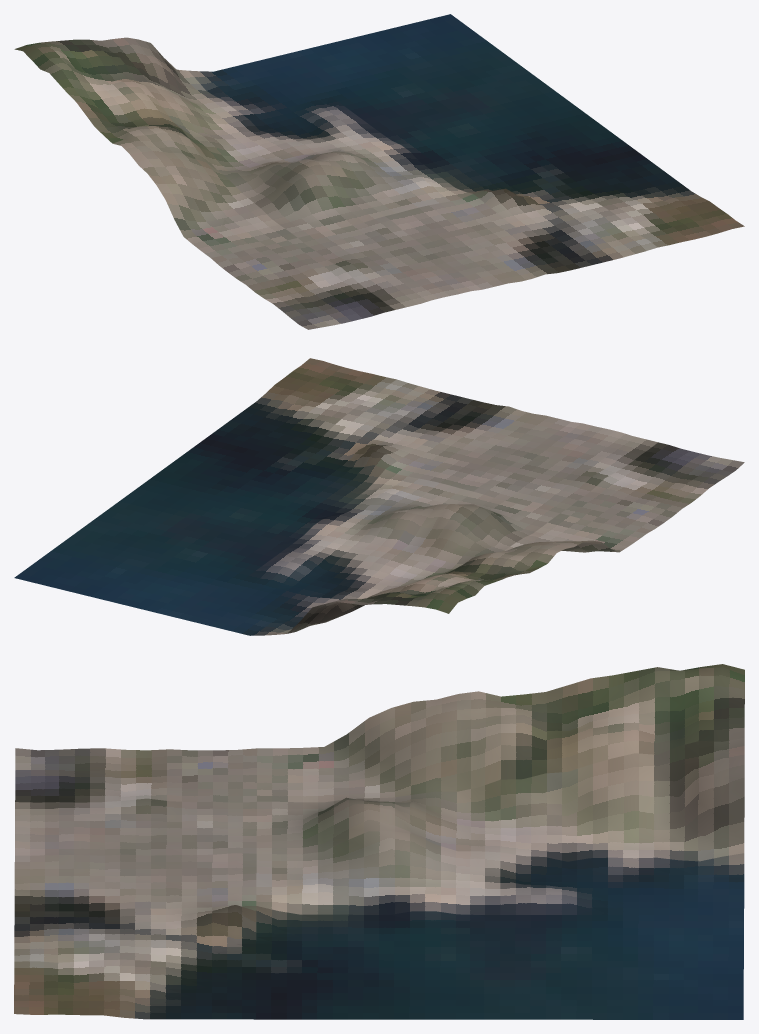
Rendered from tsunami.gltf.
3 views of the same model, one above another, from view 1: azimuth 30°, elevation 25°; view 2: azimuth 150°, elevation 25°; view 3: azimuth 270°, elevation 25° (orthographic). The views are drawn at different scales.
Visible parts, largest first — view 1: TerrainNode; view 2: TerrainNode; view 3: TerrainNode.
Boxes of the visible parts, <box> form: TerrainNode: <box>14,14,744,329</box>; TerrainNode: <box>14,358,744,635</box>; TerrainNode: <box>14,664,744,1019</box>.
Size of the model in its own units: 6.58 by 1.13 by 7.71.
Materials: 1 (1 with a texture image).
